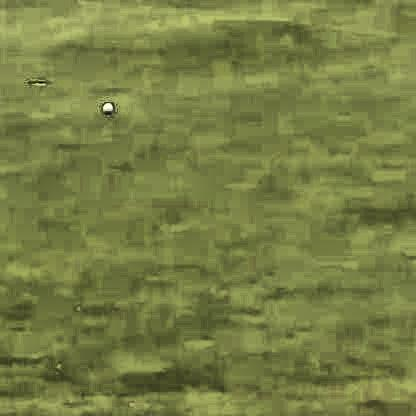golfball: (100, 99, 112, 113)
